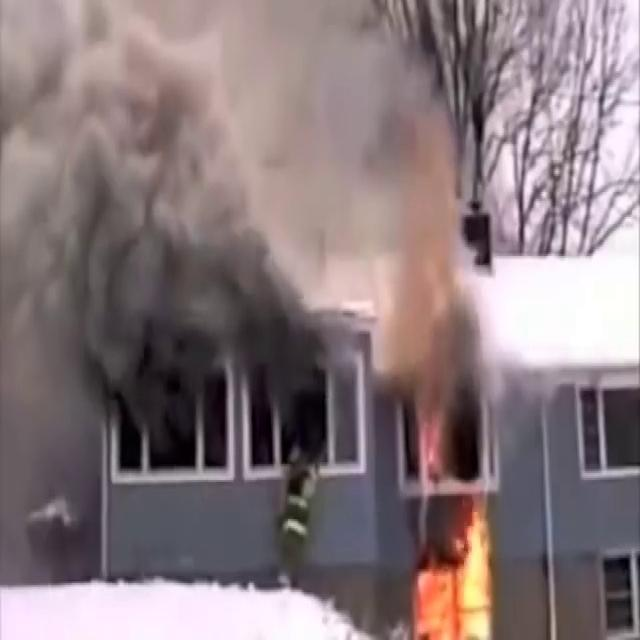Fire: (406, 496, 504, 640)
Smoke: (0, 0, 517, 544)
